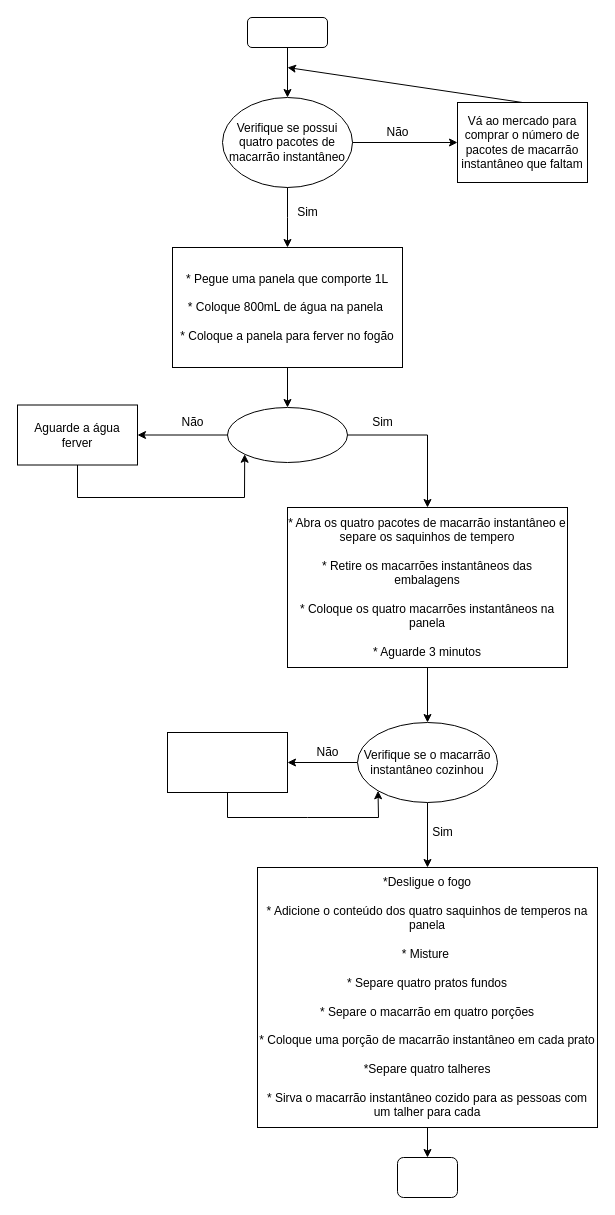
Image size: 615x1215. Some labels were removed from this diagram. Here are the shapes that lost their labels. From the top down, the centre of each, then its label:
point (287, 32): Início
point (287, 434): Verifique se a água ferveu
point (227, 762): Aguarde mais 30 segundos
point (427, 1177): Fim
